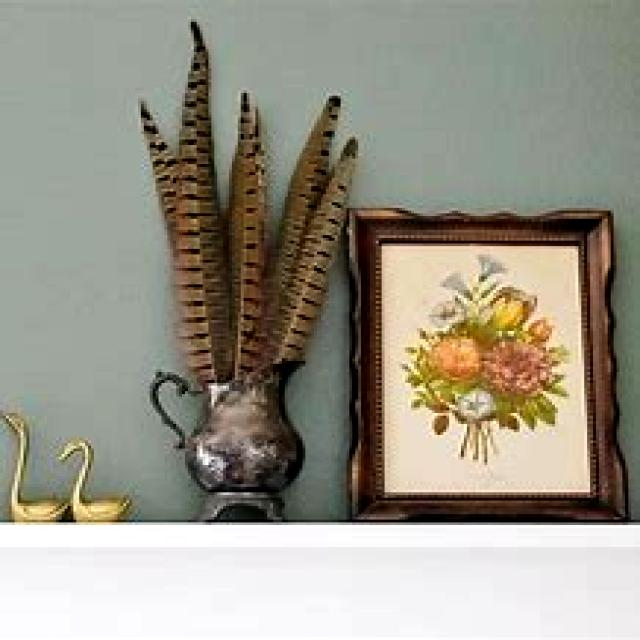Phasianus Colchicus: (138, 23, 361, 394)
